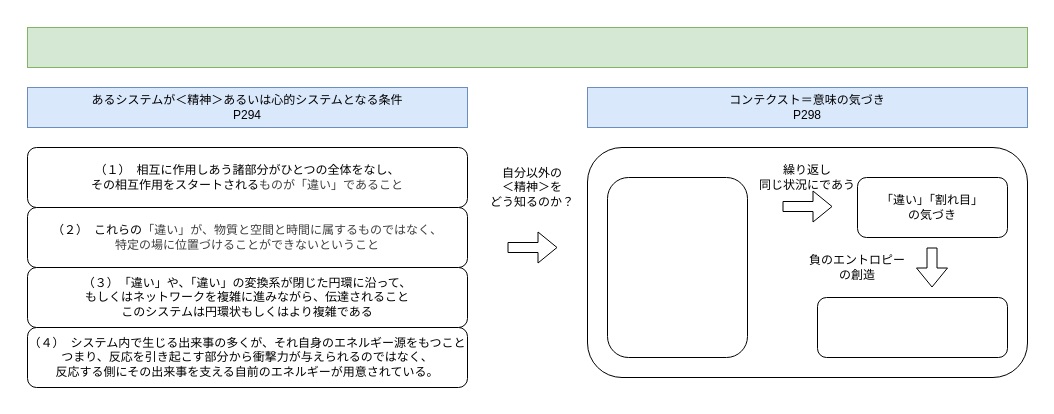
The diagram is 1054 pixels wide and 414 high, and some of its shapes have lost their labels. The centre of each missing label's shape, as x and y in pixels:
コミュニケーション デジタル情報 アナログ情報 システムのある場: (x=677, y=267)
コンテクスト＝意味の知覚 「冗長性」「パターン」 「コード化」: (x=912, y=327)
デカルトからベイトソンへ 心的システムと他の心的システム: (x=527, y=47)
